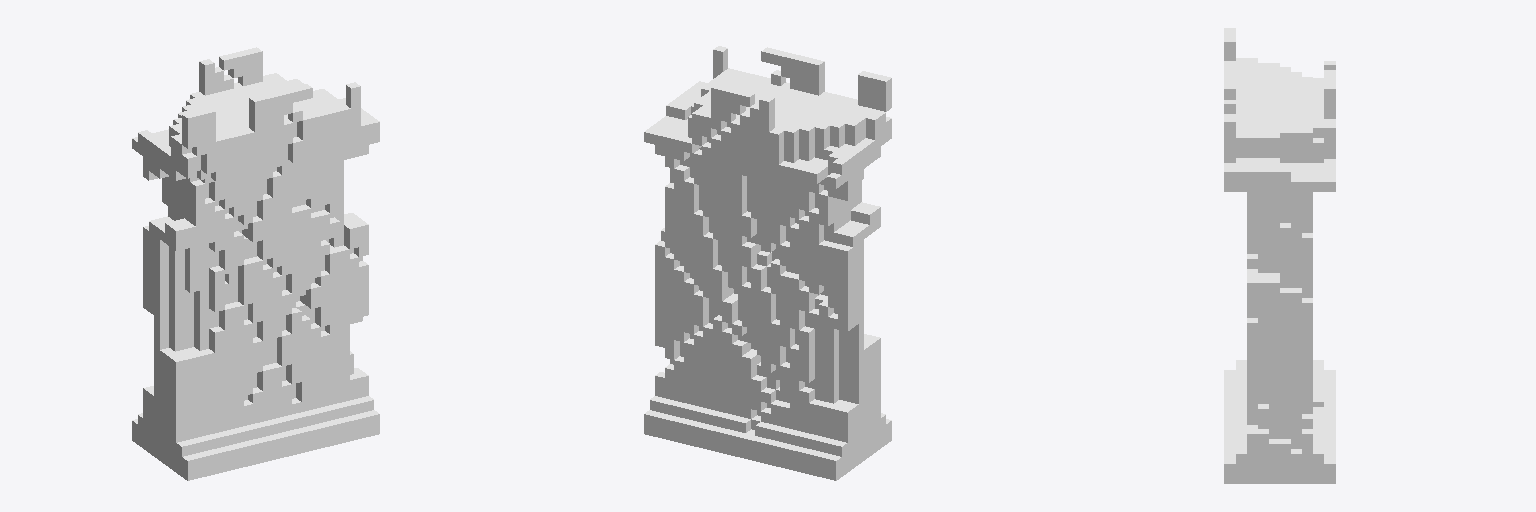
Rendered from Wall2Hit.obj.
3 renders of one model, left to right at view 1: azimuth 30°, elevation 25°; view 2: azimuth 150°, elevation 25°; view 3: azimuth 270°, elevation 25°, orthographic.
Visible parts, largest first — view 1: object 1; view 2: object 1; view 3: object 1.
Boxes of the visible parts, <box> form: object 1: <box>132,47,379,480</box>; object 1: <box>644,46,891,480</box>; object 1: <box>1224,28,1335,483</box>.
Bounding box in the file's own units: 2 × 3.6 × 1.